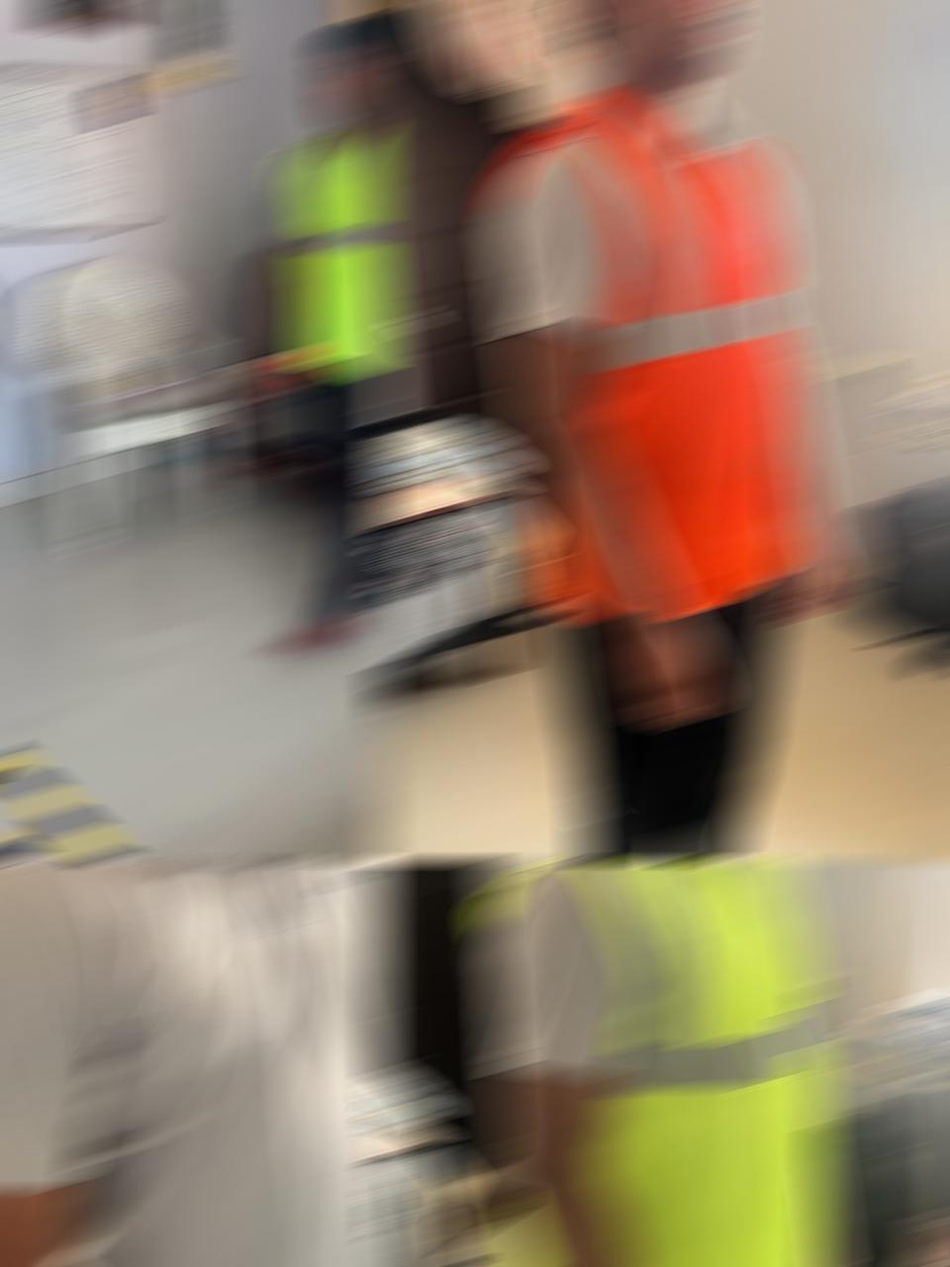BorderLine: (0, 743, 200, 858)
Helmet: (537, 2, 779, 89)
No_Helmet: (315, 16, 389, 120)
No_Vest: (0, 863, 389, 1264)
Person: (484, 2, 843, 859), (0, 863, 389, 1264), (474, 864, 859, 1265), (257, 16, 389, 651)
Vest: (486, 91, 796, 618), (474, 864, 830, 1265), (276, 117, 389, 373)
